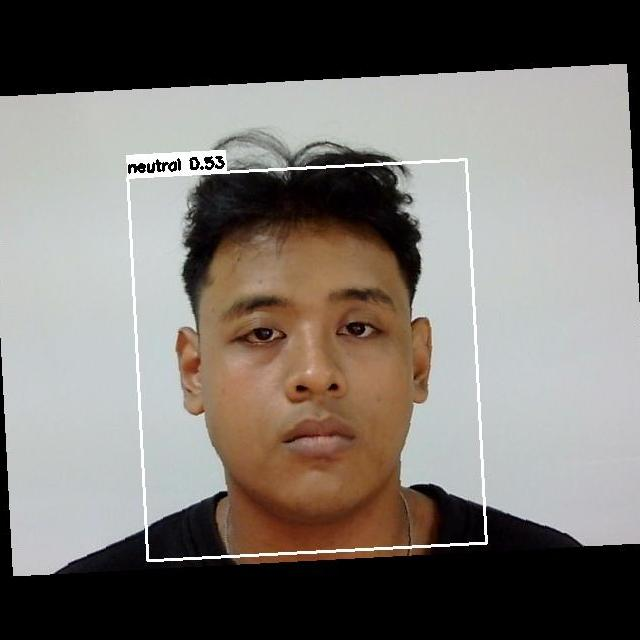Natural: (196, 266, 427, 479)
